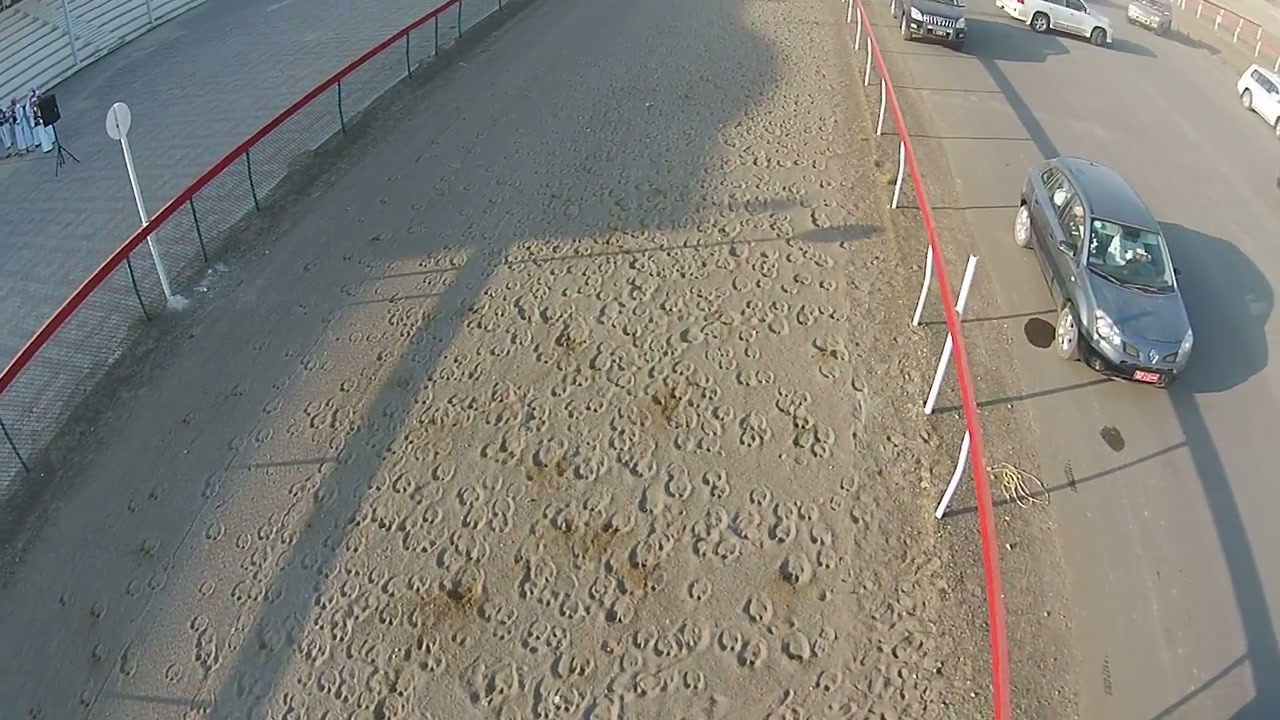animal_foot_print: (66, 0, 980, 719)
